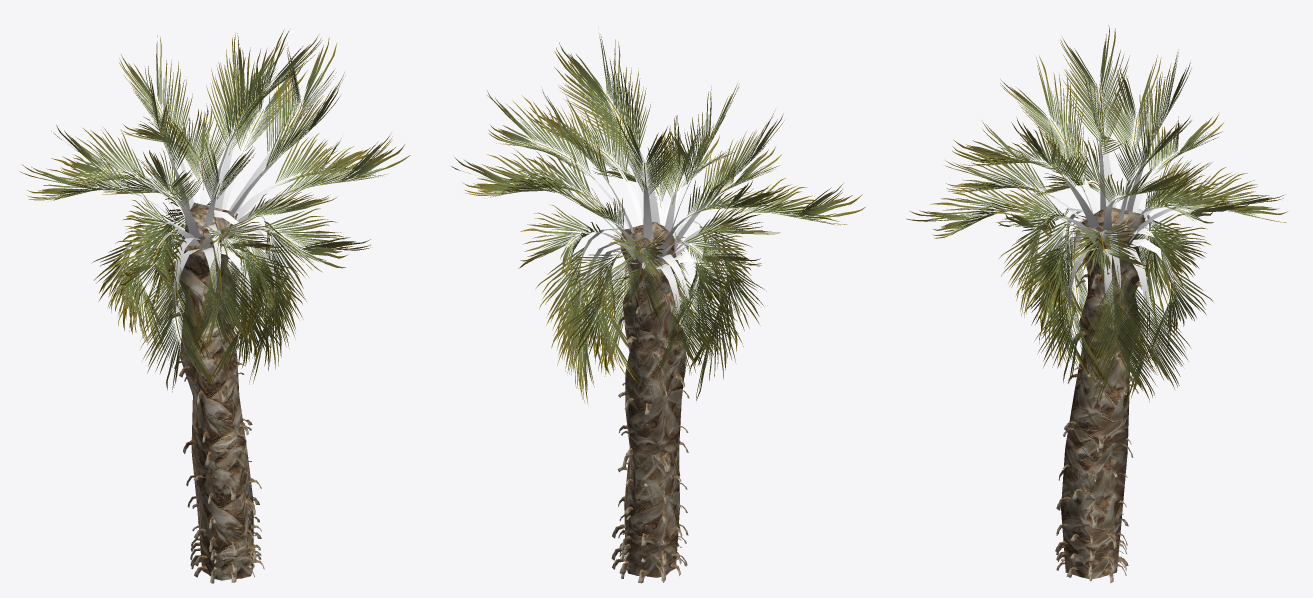
File: palm1.obj
3 renders of one model, left to right at view 1: azimuth 30°, elevation 25°; view 2: azimuth 150°, elevation 25°; view 3: azimuth 270°, elevation 25°, orthographic.
Visible parts, largest first — view 1: curly palm leaf, palm07, object 2, barkpalm; view 2: curly palm leaf, palm07, object 2, barkpalm; view 3: curly palm leaf, palm07, object 2, barkpalm.
Part boxes in pixels (<box>): curly palm leaf: <box>19,29,410,396</box>; palm07: <box>179,202,253,580</box>; object 2: <box>124,118,306,318</box>; barkpalm: <box>166,258,264,583</box>; curly palm leaf: <box>451,28,865,404</box>; palm07: <box>620,221,686,577</box>; object 2: <box>571,130,758,313</box>; barkpalm: <box>611,276,689,583</box>; curly palm leaf: <box>906,25,1287,406</box>; palm07: <box>1061,206,1144,579</box>; object 2: <box>1037,124,1190,319</box>; barkpalm: <box>1055,274,1143,583</box>.
Bounding box in the file's own units: 153 × 236 × 158.
Materials: 4 (3 with a texture image).
